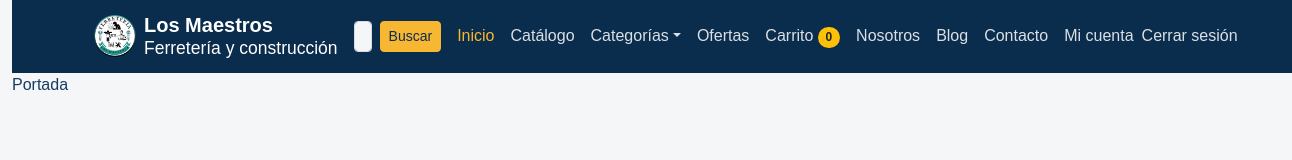
Test: Header › al cerrar sesión lleva a la pantalla de ingreso
What coordinates should you click on to do the following:
click the button "Cerrar sesión"
I would click on:
 (1190, 36)
Its box is [1142,24,1238,48].
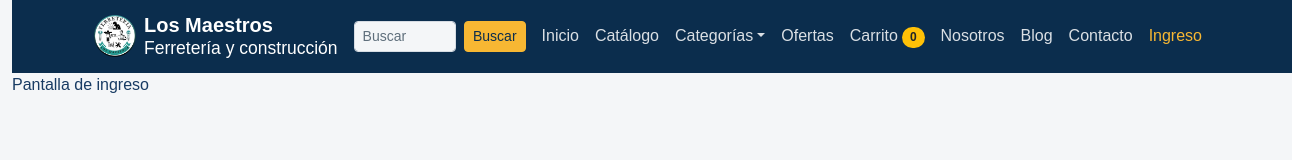
Expected: the text "Pantalla de ingreso" is shown, [12,76,149,93]
